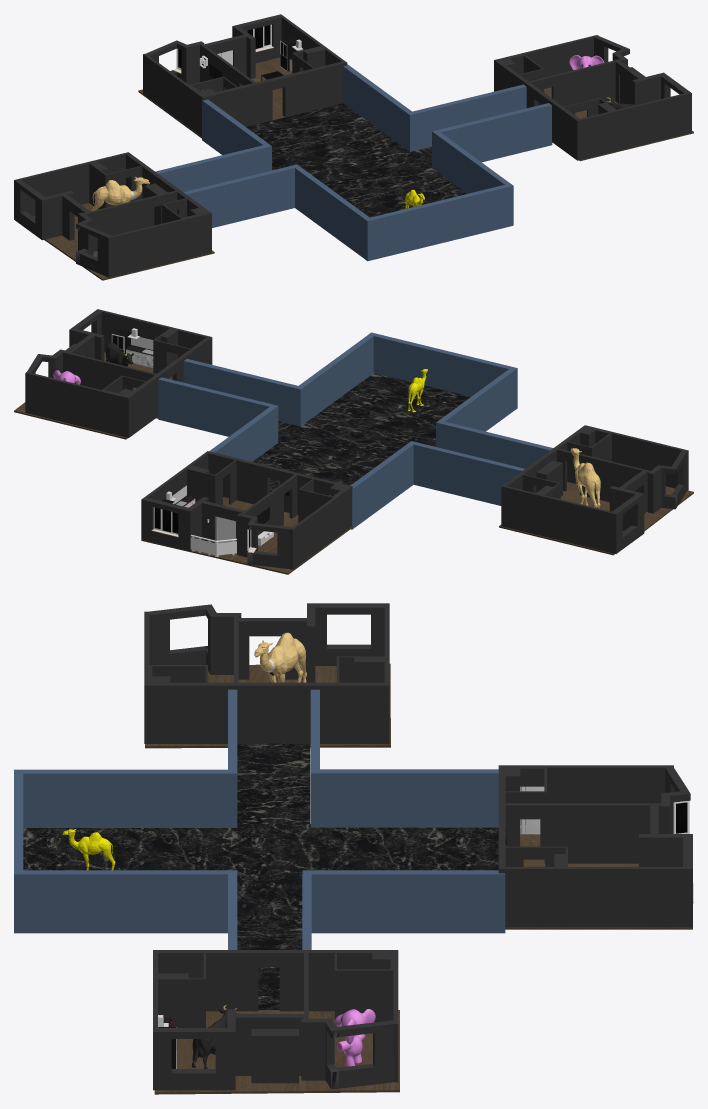
File: apartment_floor.gltf
3 views of the same model, one above another, from view 1: azimuth 30°, elevation 25°; view 2: azimuth 150°, elevation 25°; view 3: azimuth 270°, elevation 25° (orthographic). The views are drawn at different scales.
Visible parts, largest first — view 1: apartment_floor; view 2: apartment_floor; view 3: apartment_floor.
Part boxes in pixels (x1,y1,x2,y2): apartment_floor: (14, 14, 693, 280); apartment_floor: (14, 309, 693, 574); apartment_floor: (14, 603, 693, 1094).
Size of the model in its own units: 42.75 by 3.82 by 28.54.
Materials: 125 (7 with a texture image).
